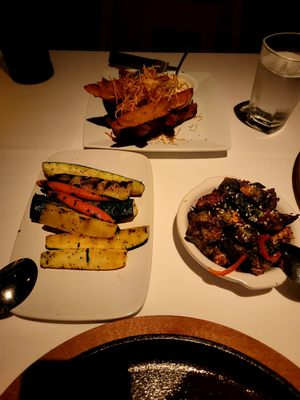pizza: (233, 31, 300, 135)
salad: (0, 257, 38, 321)
soup: (83, 65, 199, 148), (43, 161, 145, 223)
sushi: (13, 316, 299, 400), (174, 175, 300, 294)
